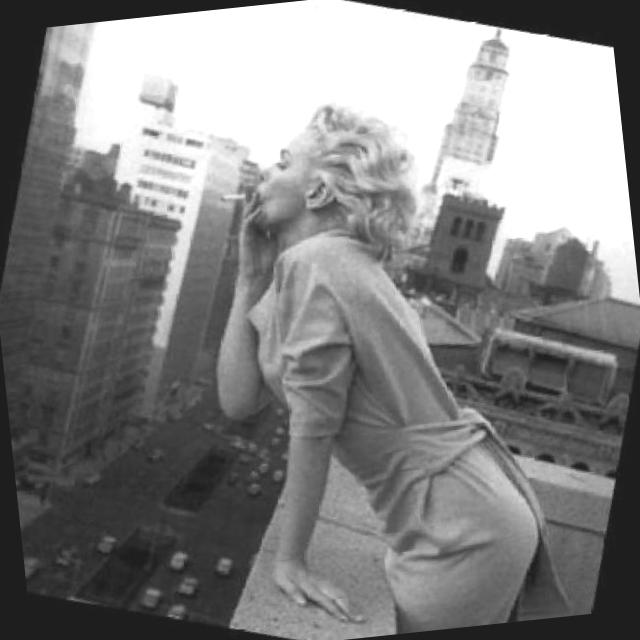smoke: (215, 182, 258, 214)
